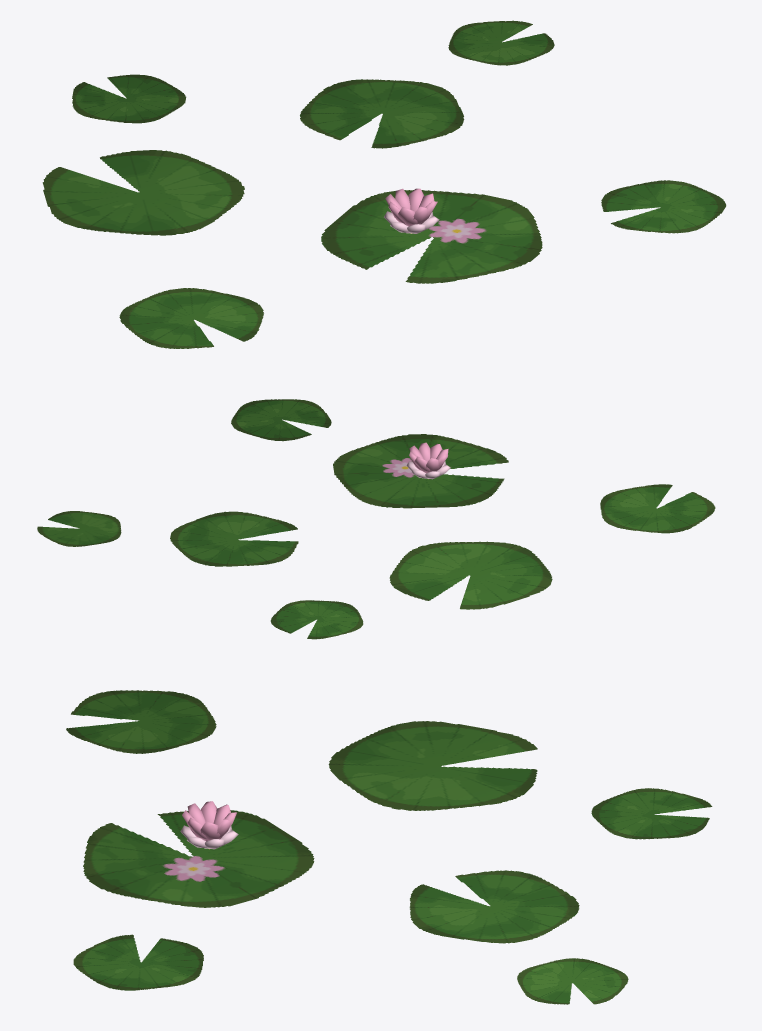
File: mirewell_lily_pads.glb
3 renders of one model, top to bottom at view 1: azimuth 30°, elevation 25°; view 2: azimuth 150°, elevation 25°; view 3: azimuth 270°, elevation 25°, orthographic. The views are drawn at different scales.
Parts seen in each view (by area): view 1: mirewell_lily_pads; view 2: mirewell_lily_pads; view 3: mirewell_lily_pads.
Boxes of the visible parts, bbox=[...] form: mirewell_lily_pads: bbox=[42, 20, 726, 348]; mirewell_lily_pads: bbox=[37, 399, 715, 639]; mirewell_lily_pads: bbox=[66, 690, 712, 1004].
Size of the model in its own units: 1.49 by 0.085 by 1.36.
2 materials, 1 textured.
